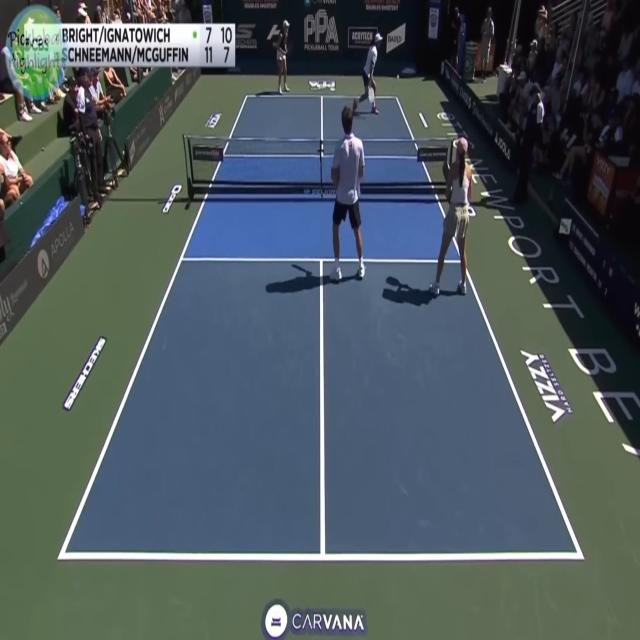ball: (394, 66, 403, 84)
